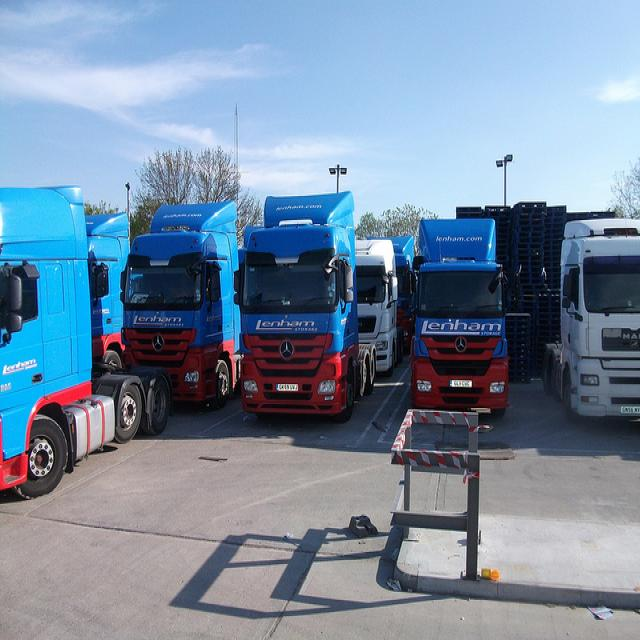Vehicle: (0, 188, 172, 494), (233, 190, 380, 430), (119, 200, 244, 408), (539, 218, 640, 420), (406, 216, 509, 408), (84, 213, 133, 390), (358, 232, 406, 374)
